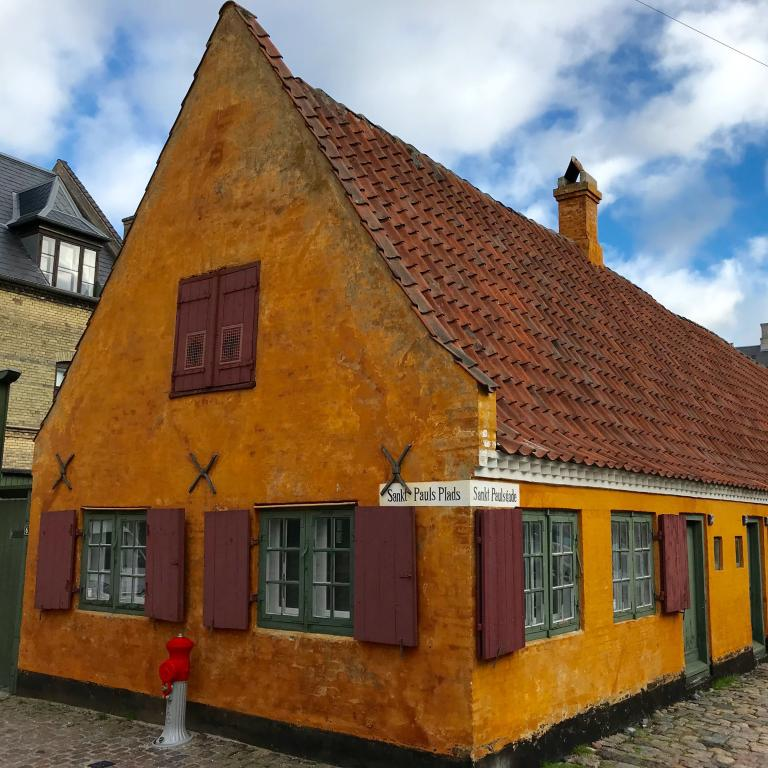white-walls: (19, 0, 768, 761)
